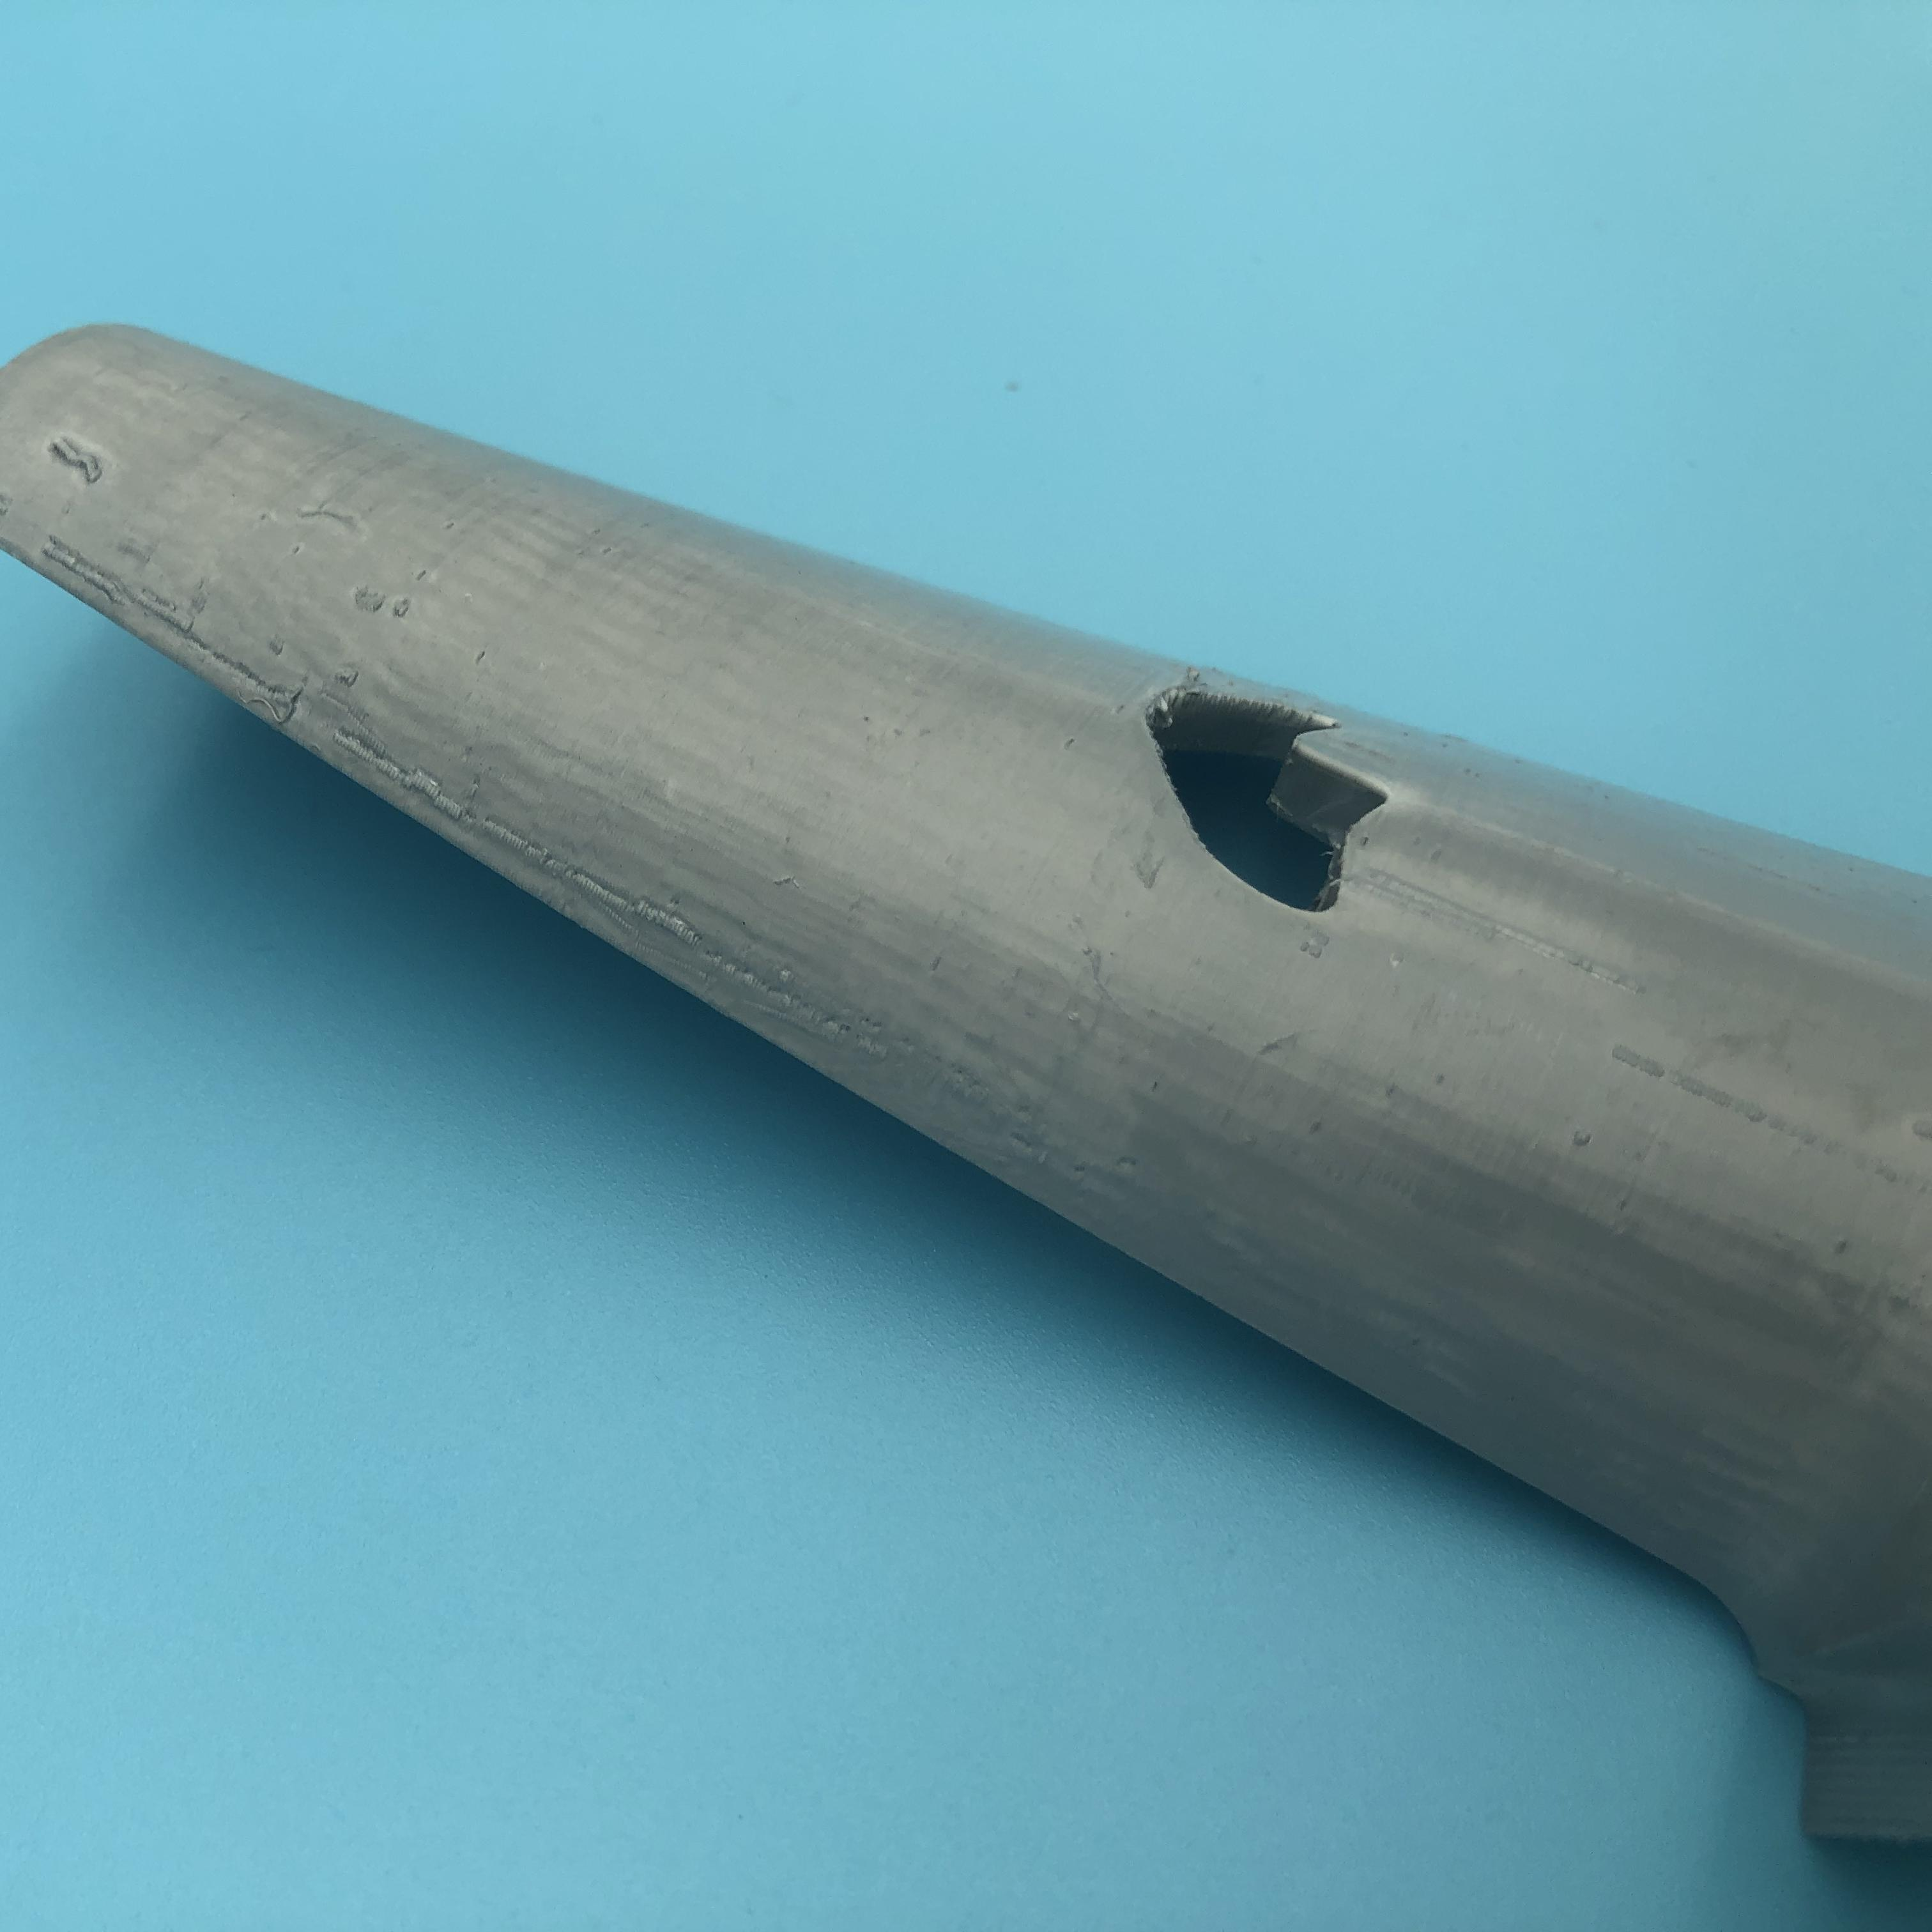breakdown: (1146, 667, 1407, 929)
